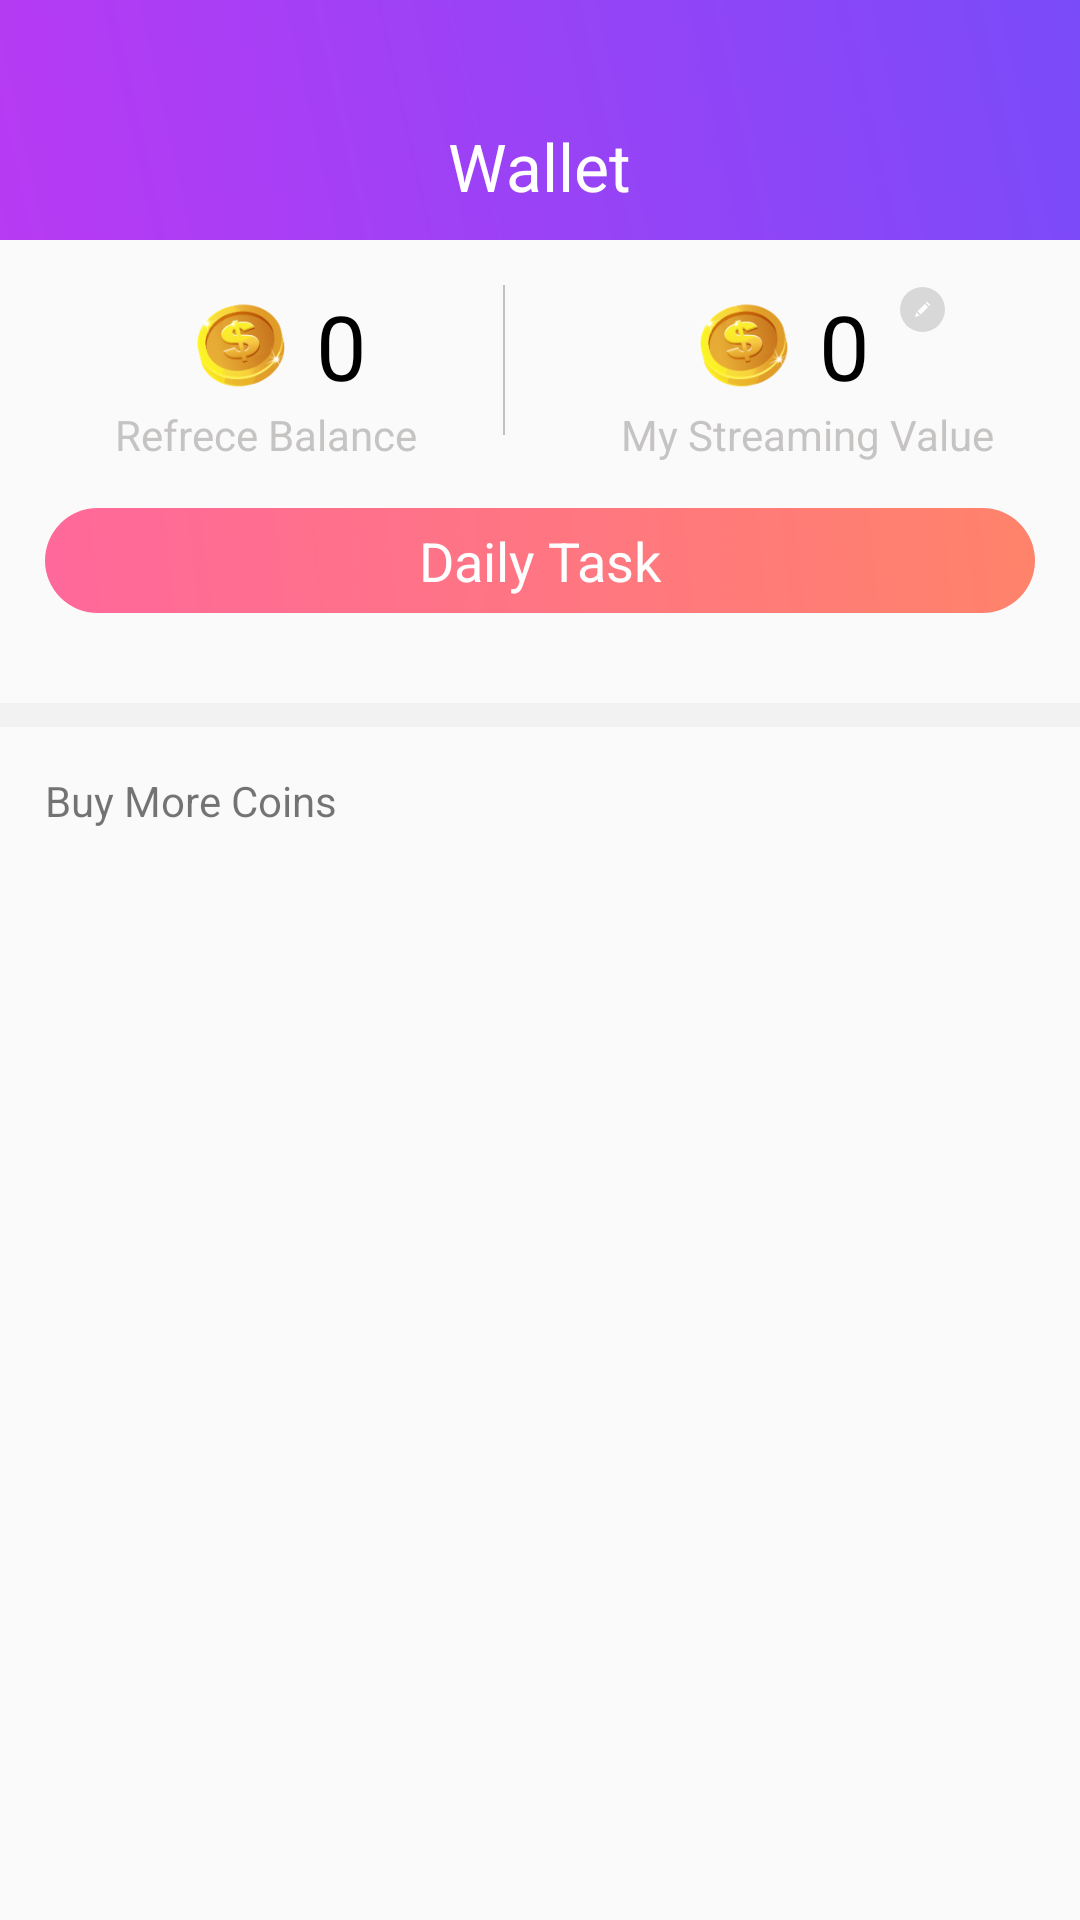

Point at icon controls on the screen. Image size 1080w x 1920h, points as [x,y].
coin: [241,345], [744,345]
pencil: [922,309]
